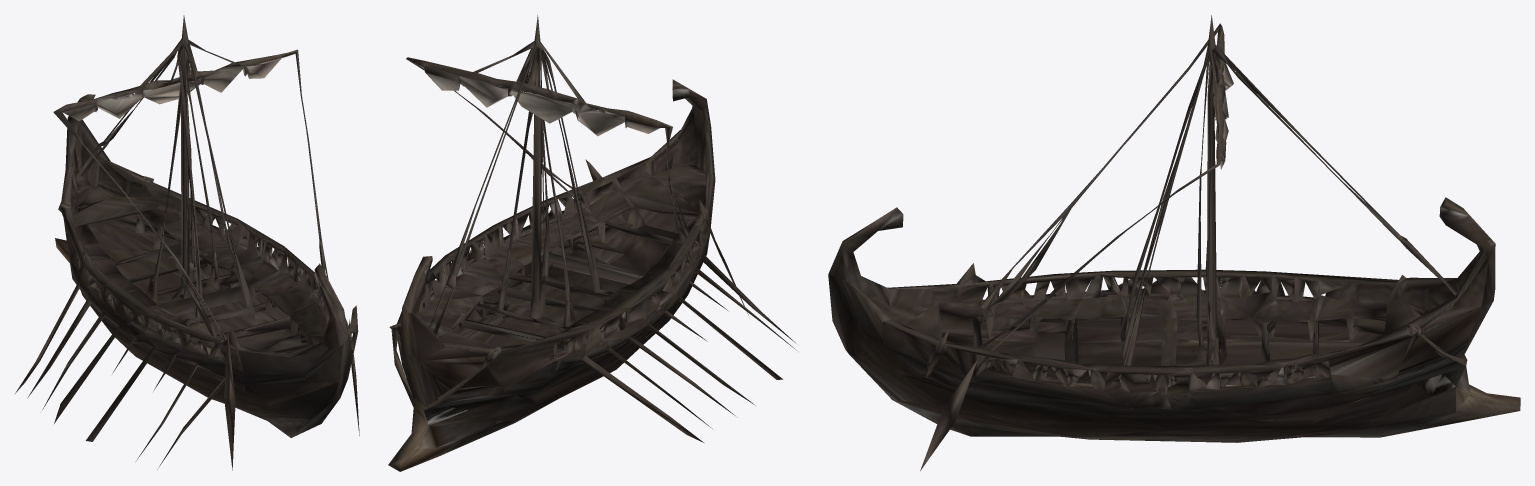
The model's file is nave_achea_lod.gltf.
3 renders of one model, left to right at view 1: azimuth 30°, elevation 25°; view 2: azimuth 150°, elevation 25°; view 3: azimuth 270°, elevation 25°, orthographic. The views are drawn at different scales.
Parts seen in each view (by area): view 1: Mesh_0; view 2: Mesh_0; view 3: Mesh_0.
Part boxes in pixels (x1,y1,x2,y2): Mesh_0: (14,15,359,470); Mesh_0: (388,15,796,471); Mesh_0: (828,15,1520,470).
Size of the model in its own units: 6.84 by 8.11 by 11.94.
Materials: 1 (1 with a texture image).
